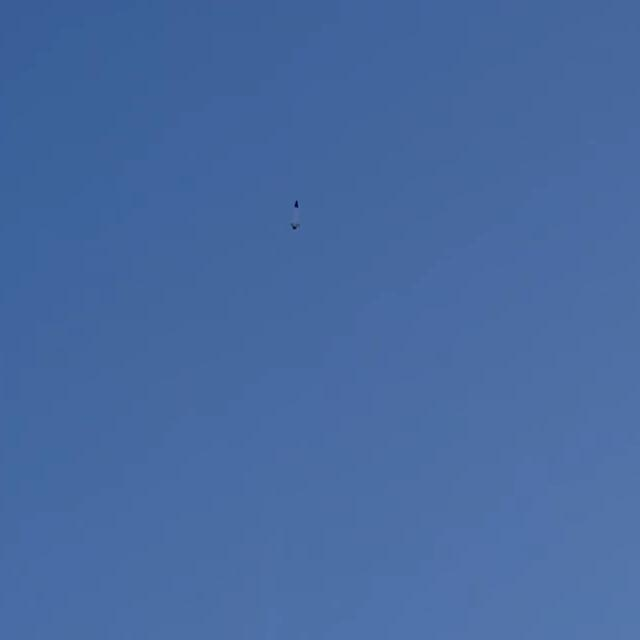rocket: (290, 201, 299, 231)
